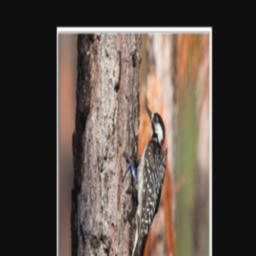Woodpecker: (116, 97, 171, 256)
